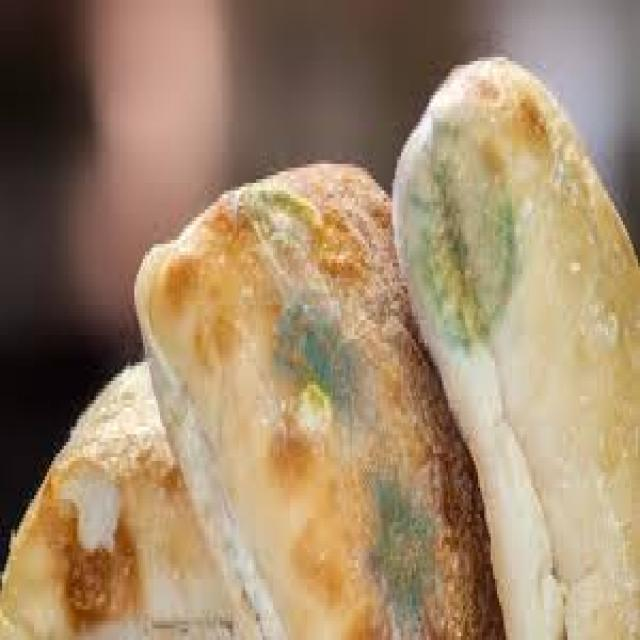organic waste: (134, 156, 506, 636), (395, 65, 638, 636), (0, 358, 267, 636)
